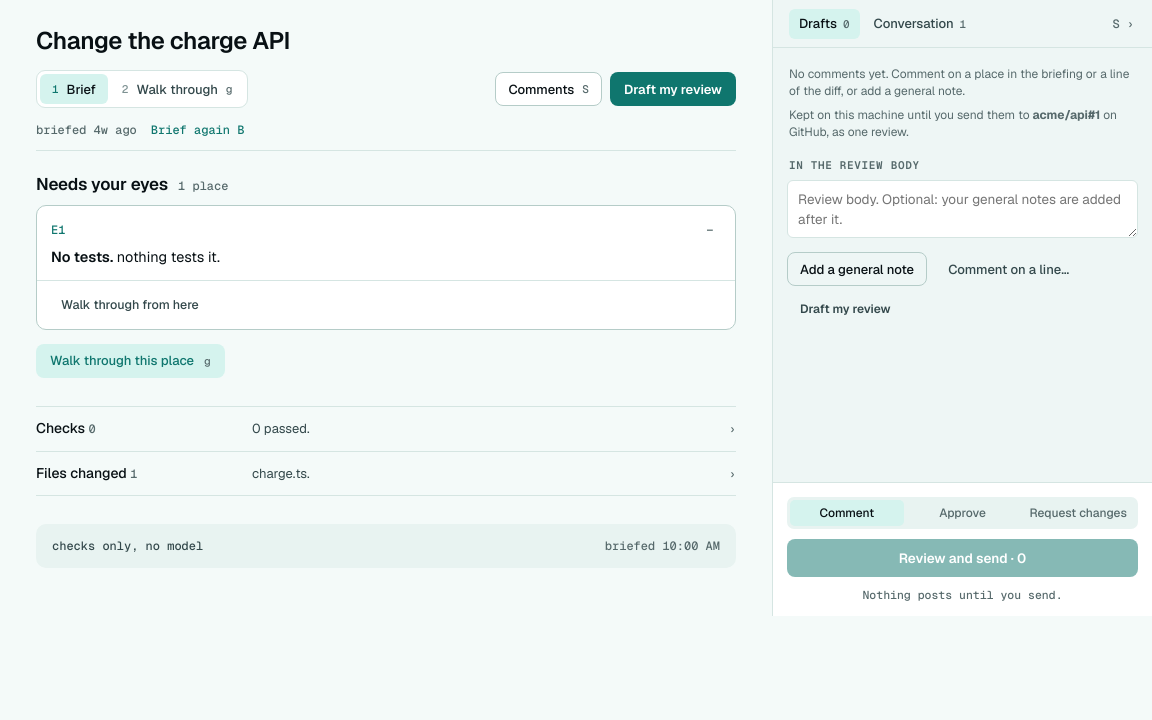
it: Draft with Alden in a comment box › can be cancelled, leaving the box as it was
Expected: the text "No comments yet" is shown, [789,66,1129,99]
Click the button "Add a general note". click: (857, 269)
box: [787,252,927,286]
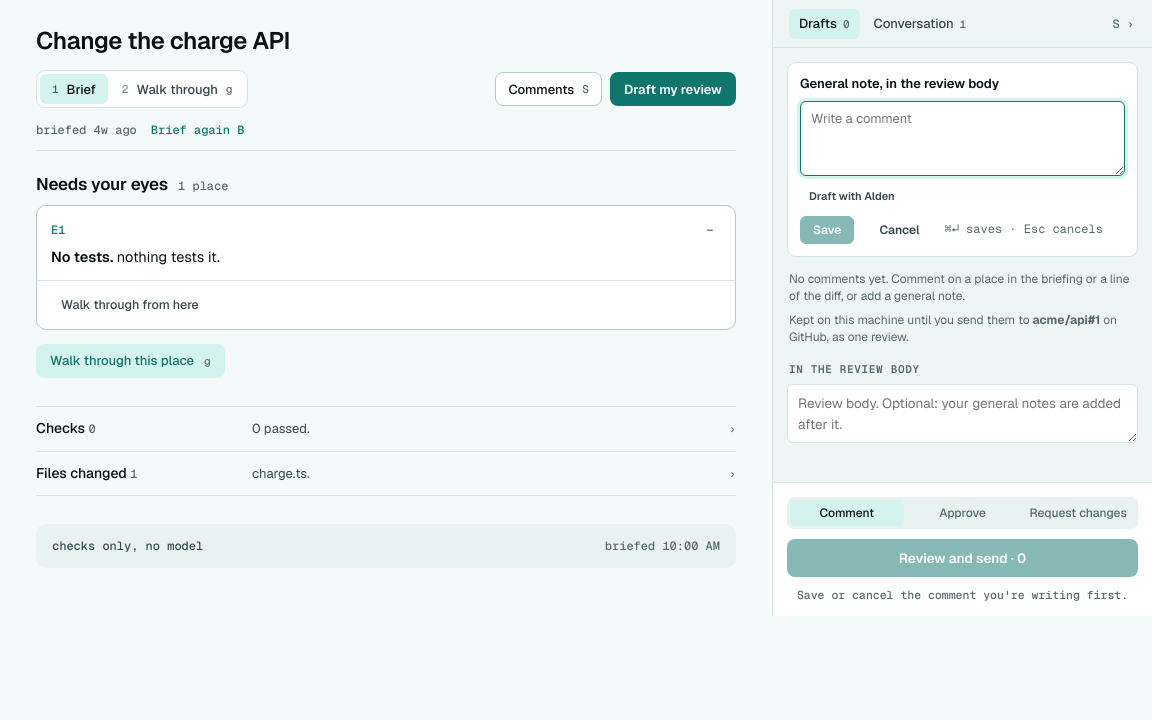
Click the button "Draft with Alden". click: (852, 196)
box: [800,184,904,208]
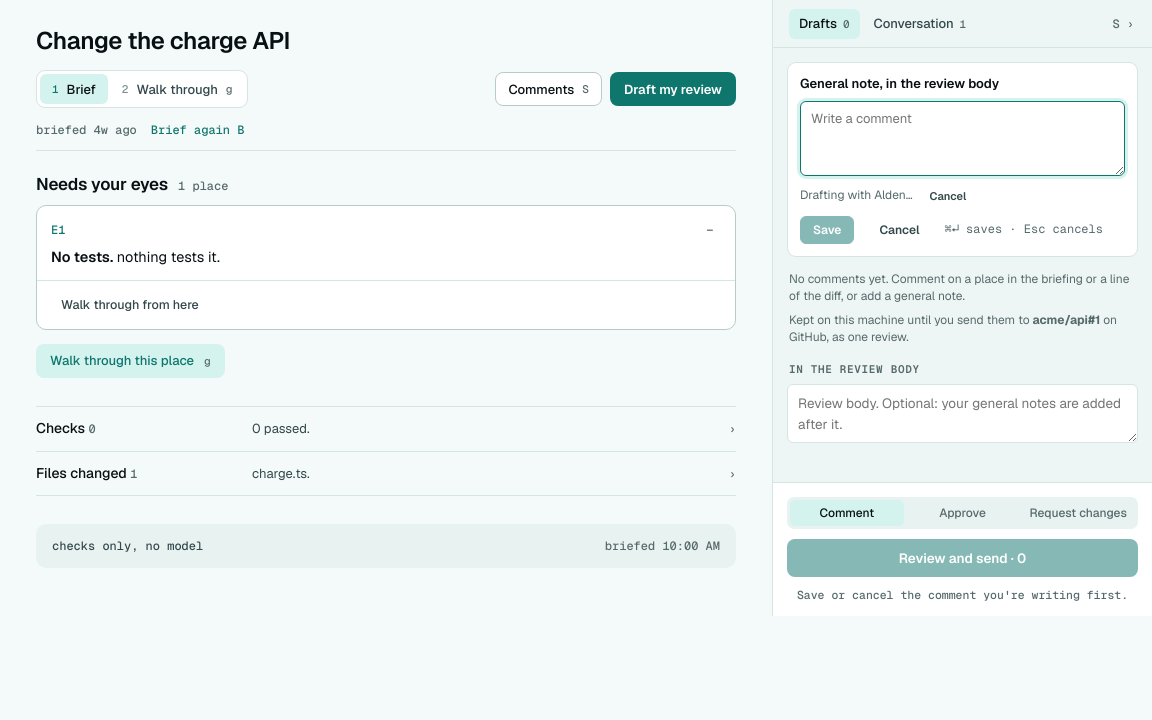
Click the button with aria-label "Cancel drafting with Alden". click: (948, 196)
box: [921,184,975,208]
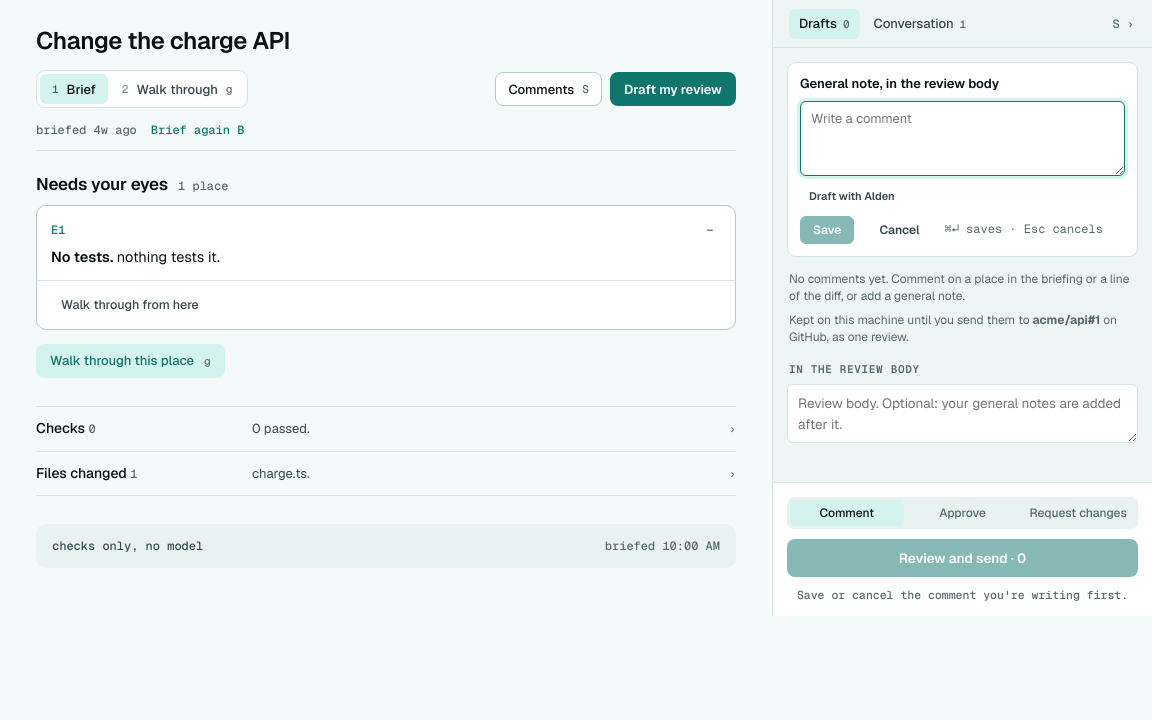
Expected: the text box named "General note" is empty, [800,101,1125,176]
Expected: the button "Draft with Alden" is shown, [800,184,904,208]
